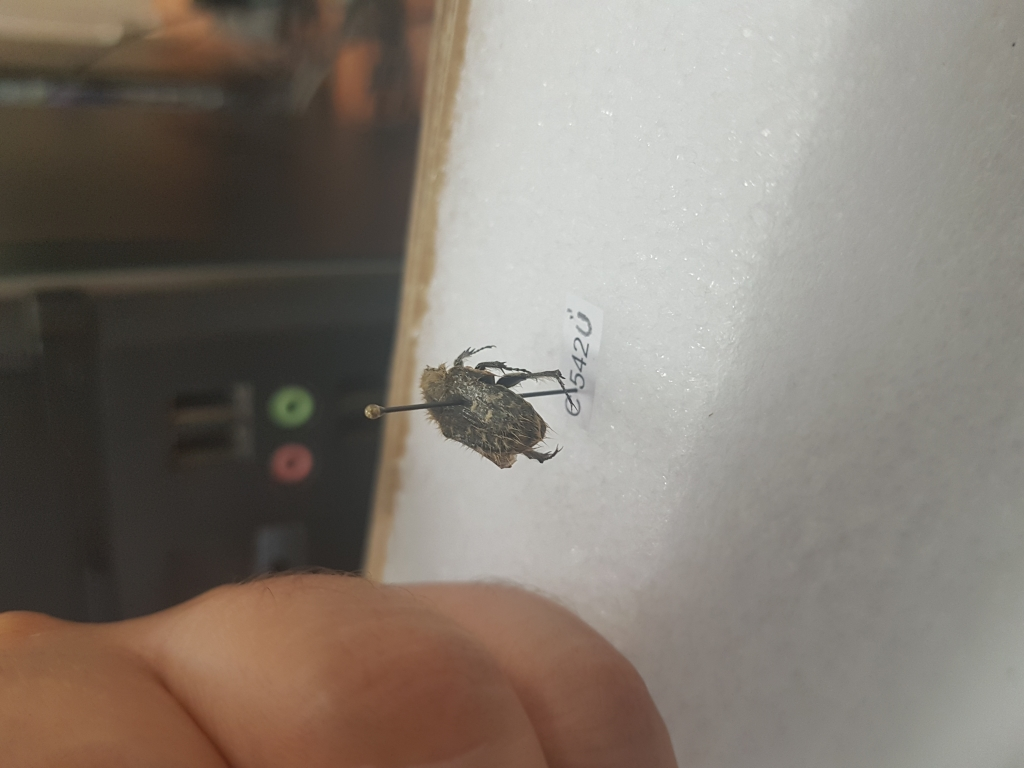Tropinota_hirta: (411, 331, 578, 482)
